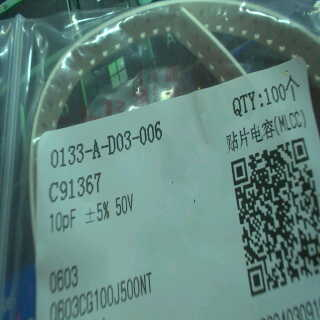10pF: (45, 205, 84, 234)
